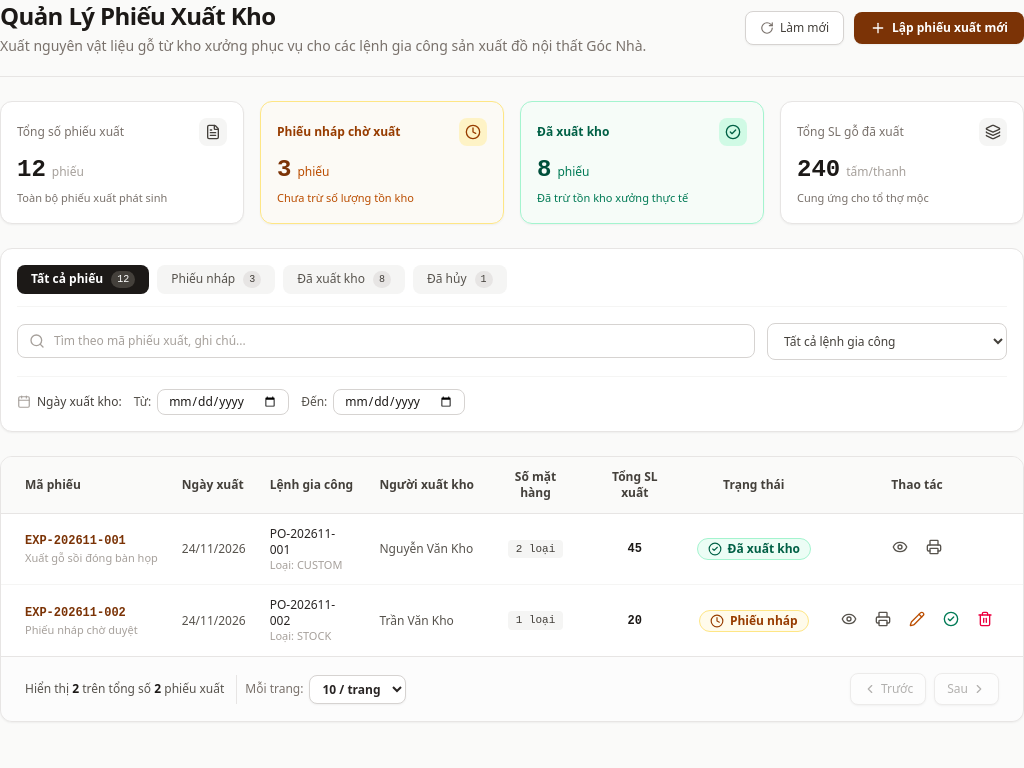
Test case: ManageMaterialExportPage Component › opens detail modal when clicking slip code in the table
What coordinates should you click on to do the following:
click the button "EXP-202611-001"
I would click on:
 (75, 541)
Its box is top-left (25, 533), bottom-right (126, 549).
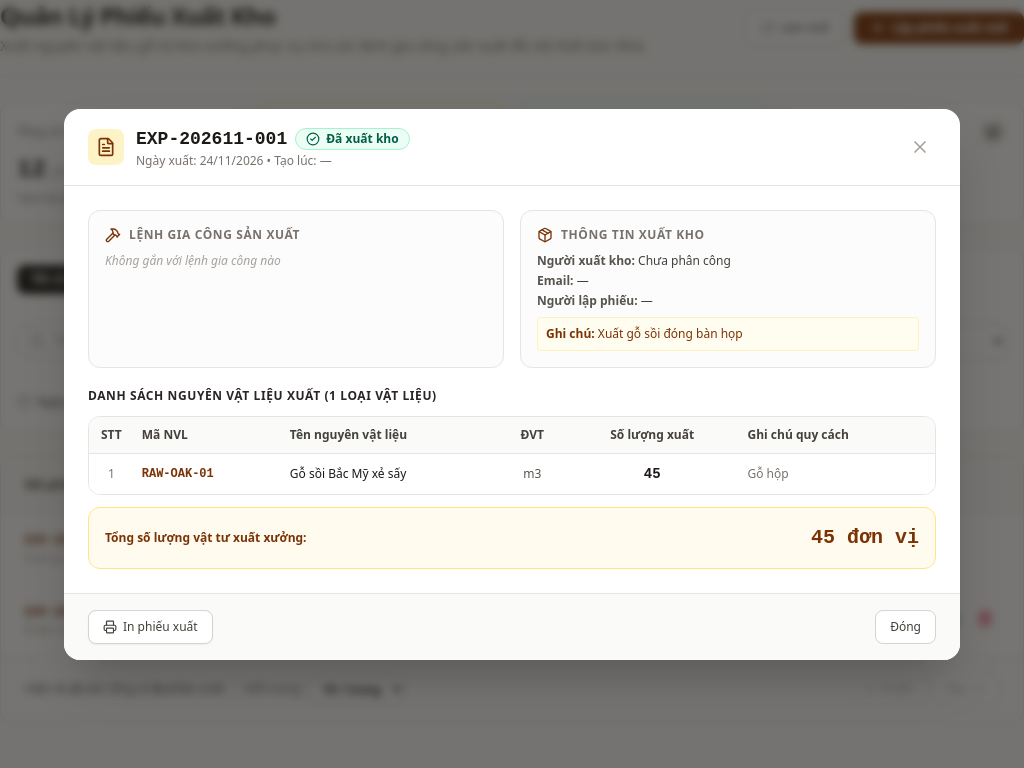
expect the heading "Danh sách nguyên vật liệu xuất (1 loại vật liệu)" is shown: met, box top-left (88, 386), bottom-right (437, 404)
